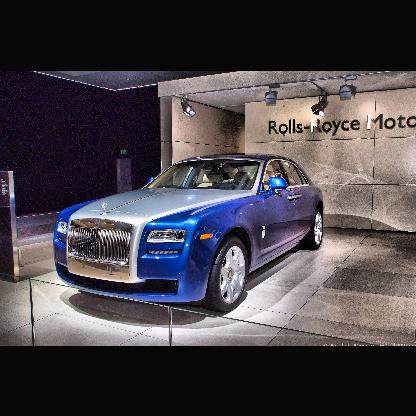Rolls-Royce Ghost Sedan 2012: (48, 154, 326, 313)
